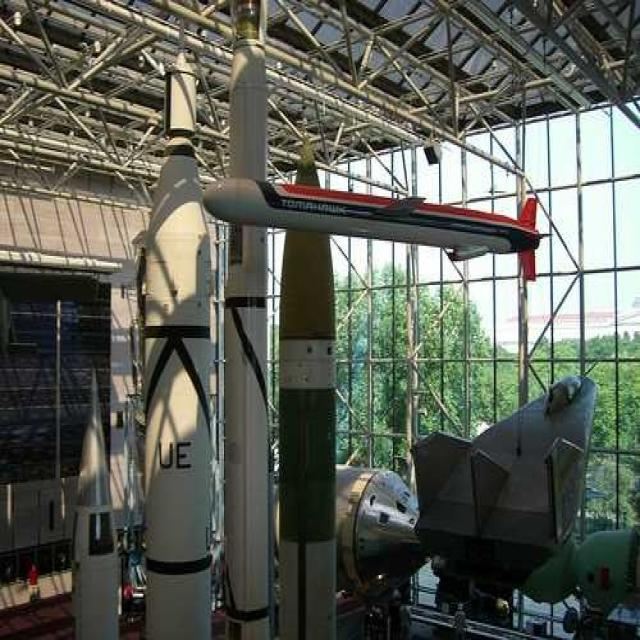missile: (141, 55, 217, 640), (201, 167, 554, 288), (278, 121, 335, 640)
